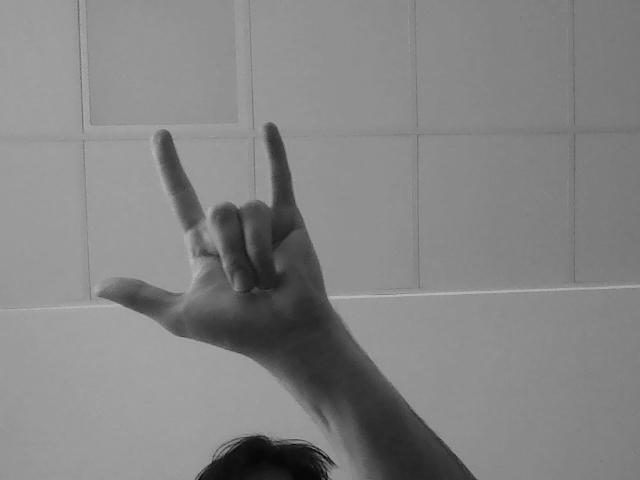I_Love_You: (88, 116, 356, 322)
